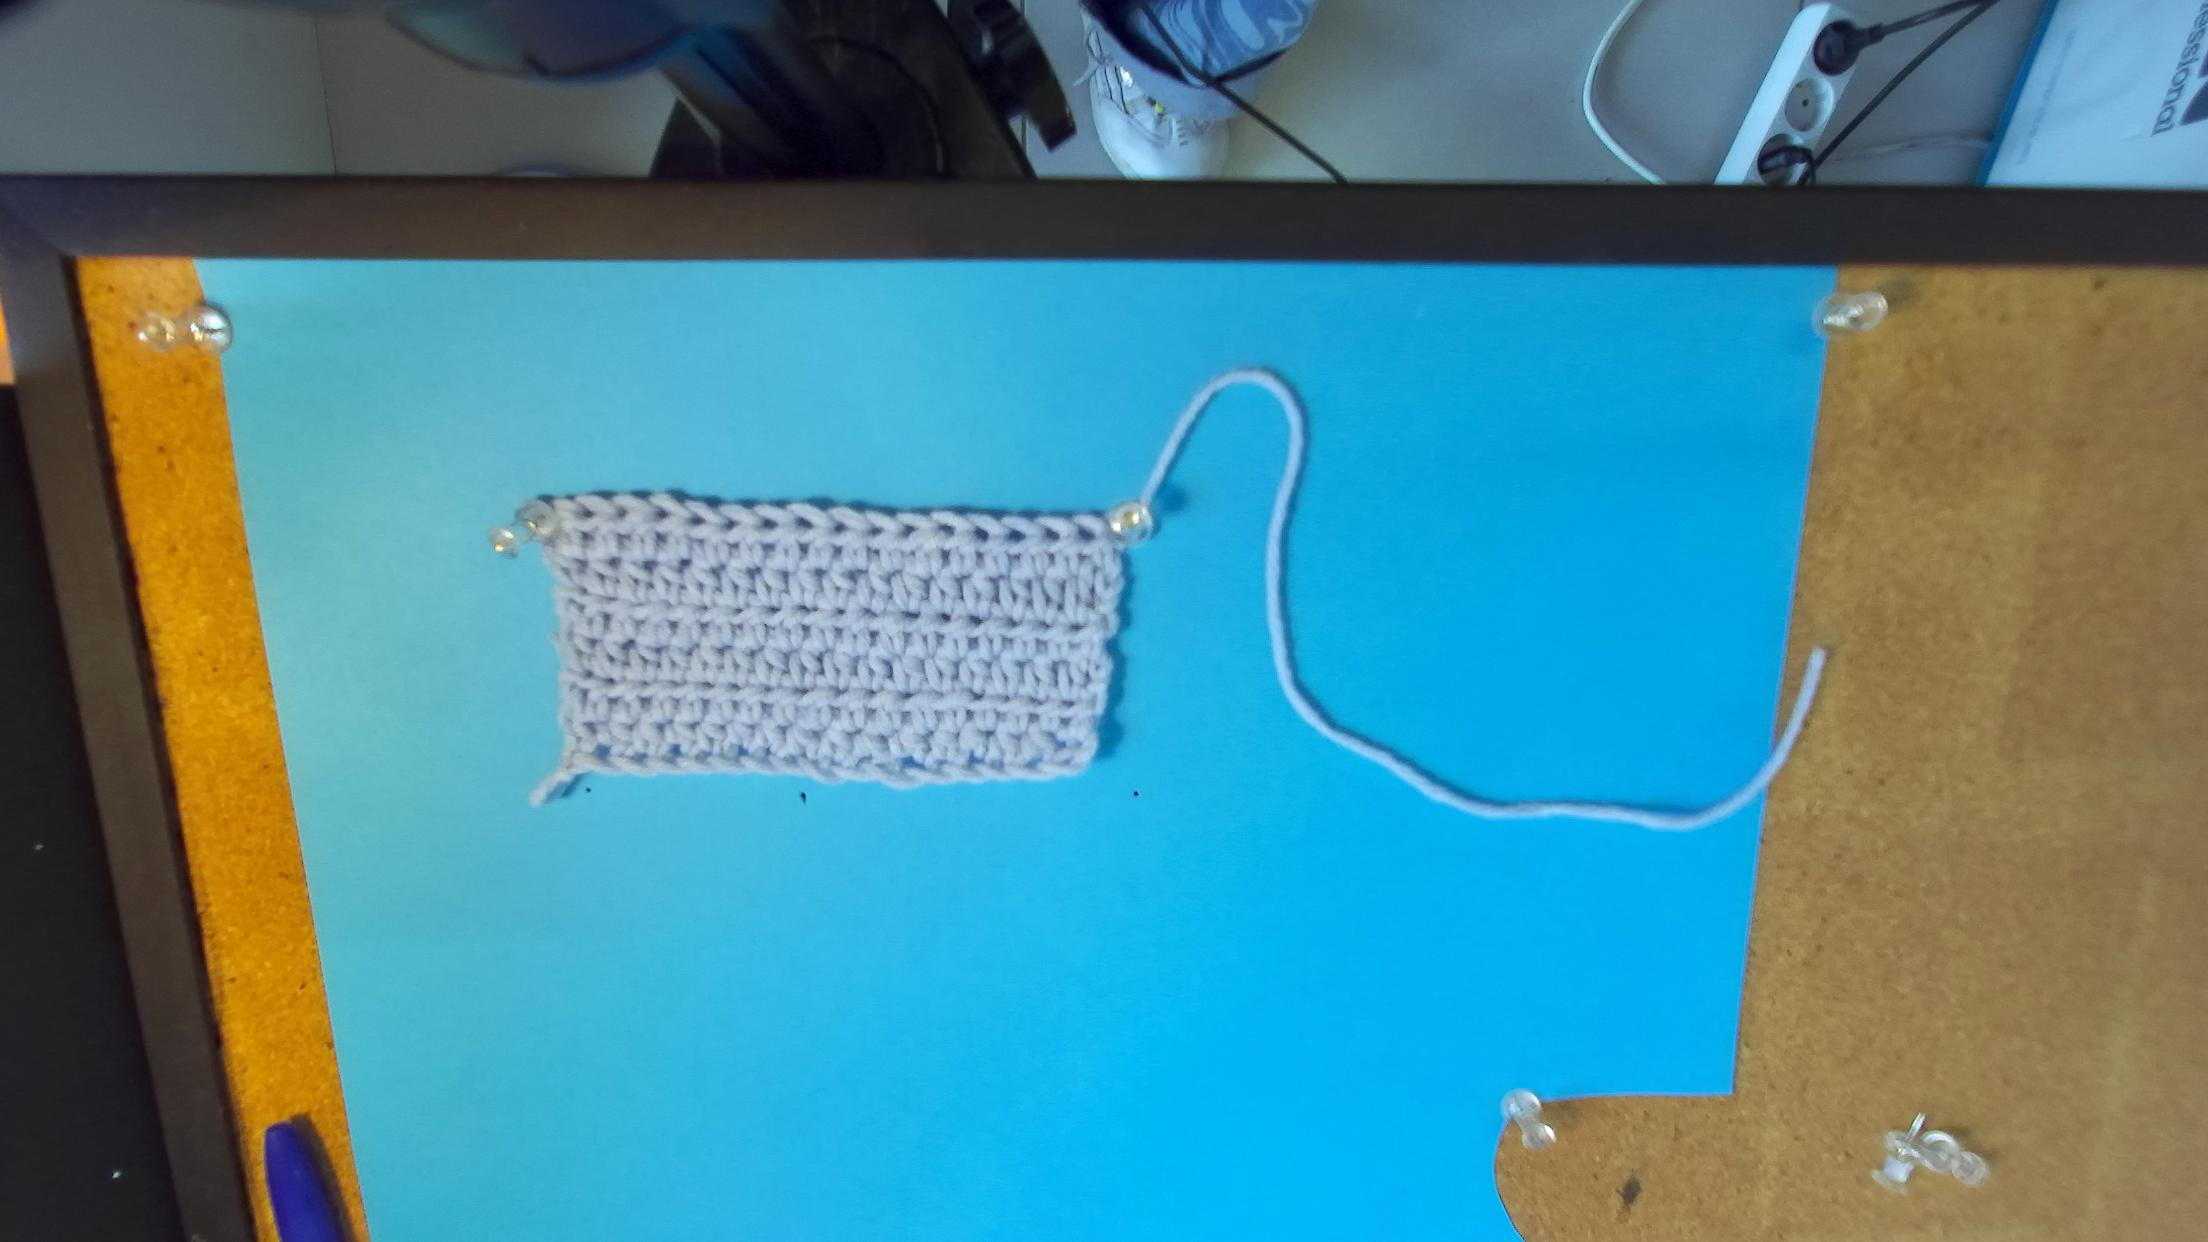hole: (1040, 525, 1060, 543), (896, 523, 917, 540), (755, 517, 781, 531), (575, 505, 596, 520), (1005, 528, 1027, 543), (793, 517, 817, 529), (652, 508, 673, 522), (972, 526, 989, 543), (722, 517, 742, 531), (830, 522, 849, 535), (1077, 526, 1093, 541), (687, 513, 707, 525), (614, 505, 631, 519), (937, 525, 955, 537), (867, 526, 886, 535)
swatch: (513, 493, 1154, 798)
